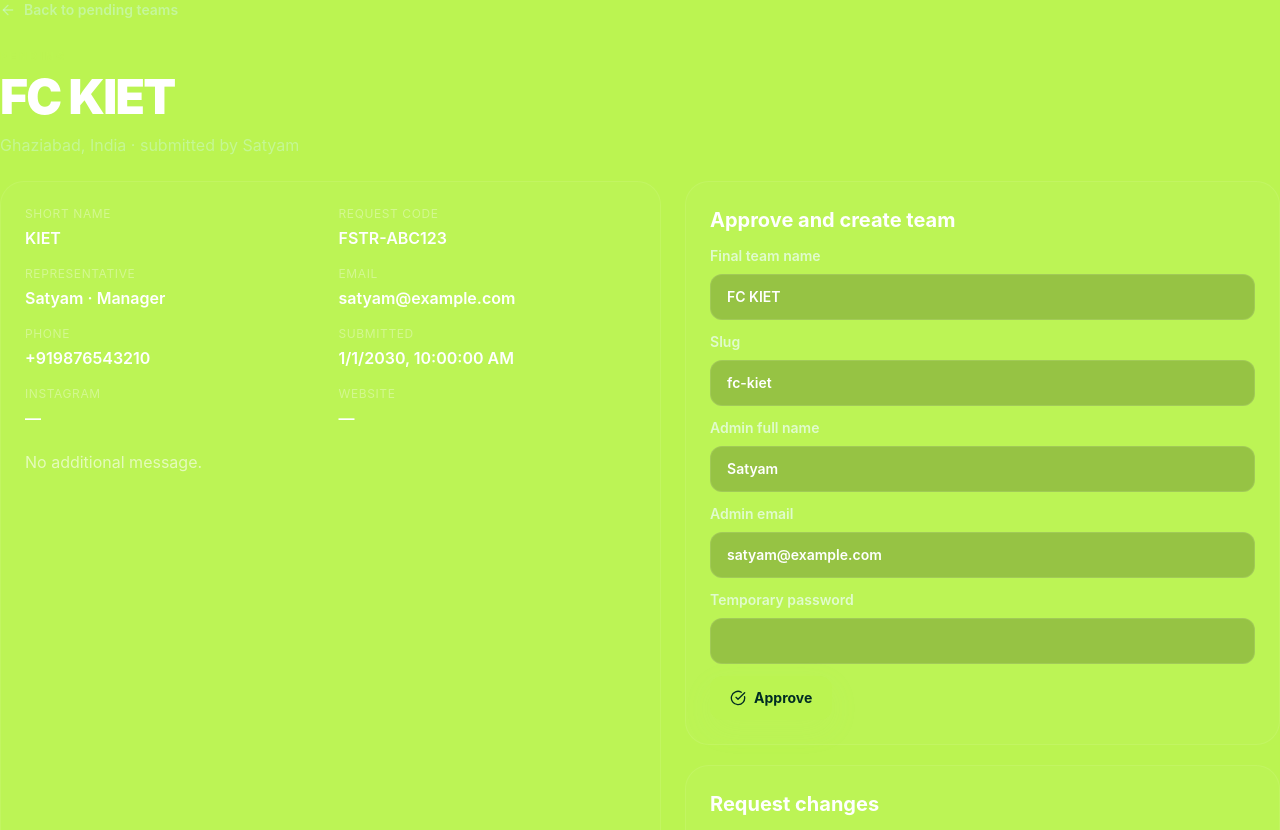
super admin request detail supports approve and reject flows without exposing password after success
Check: the field showing "satyam@example.com" is shown, box [710,532,1255,578]
Type "StrongPass123" into the password field labelled "Temporary password" at [982, 640], box [710,618,1255,664]
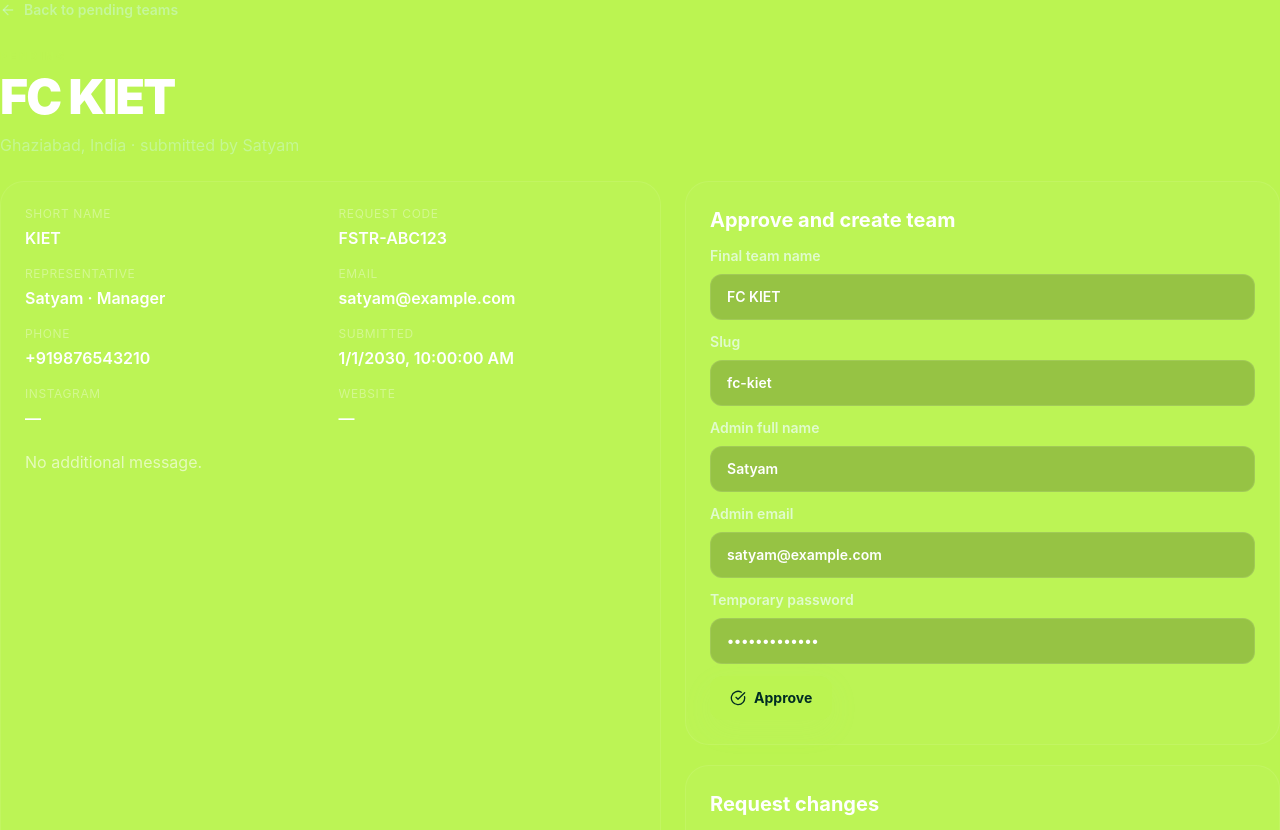
Click the button "Approve" at [771, 698], box [710,676,832,720]
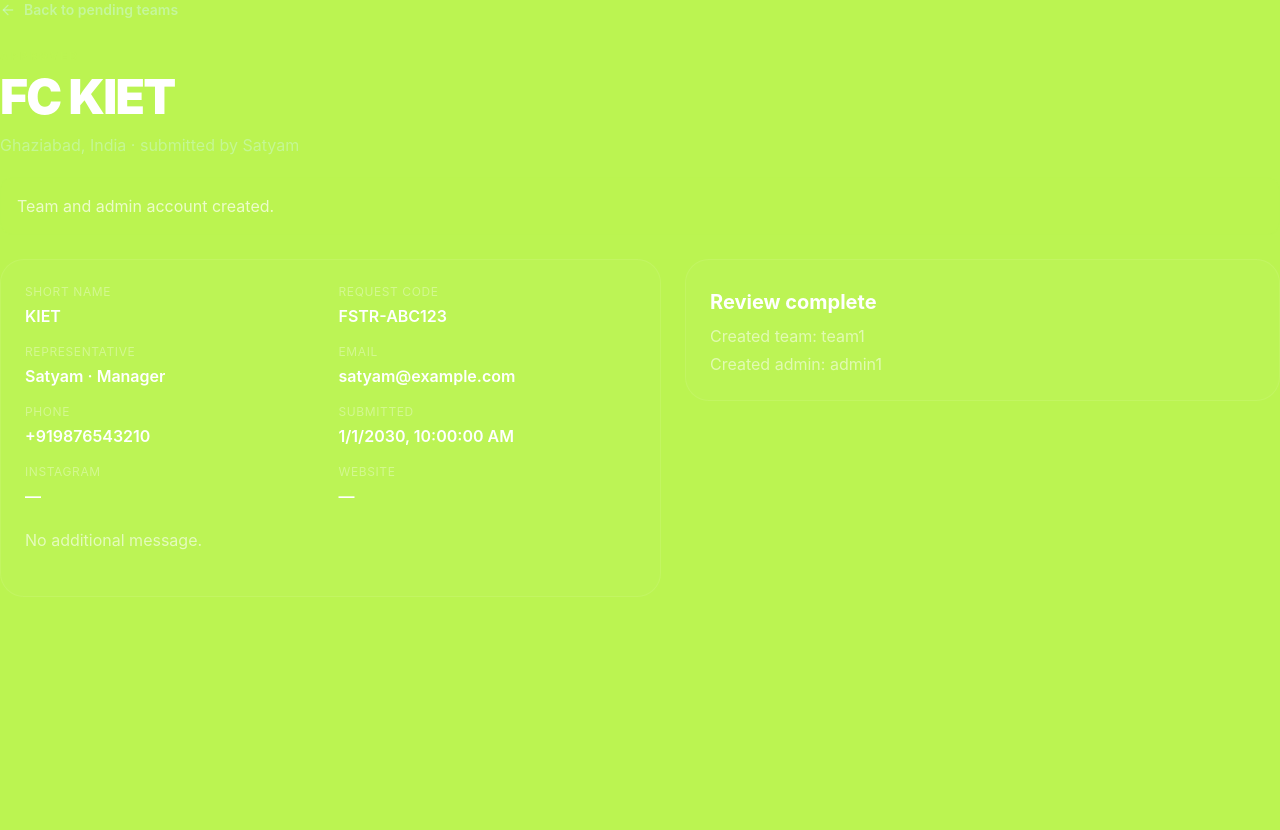
Check: the text "Team and admin account created." is shown, box [0,176,1279,234]
